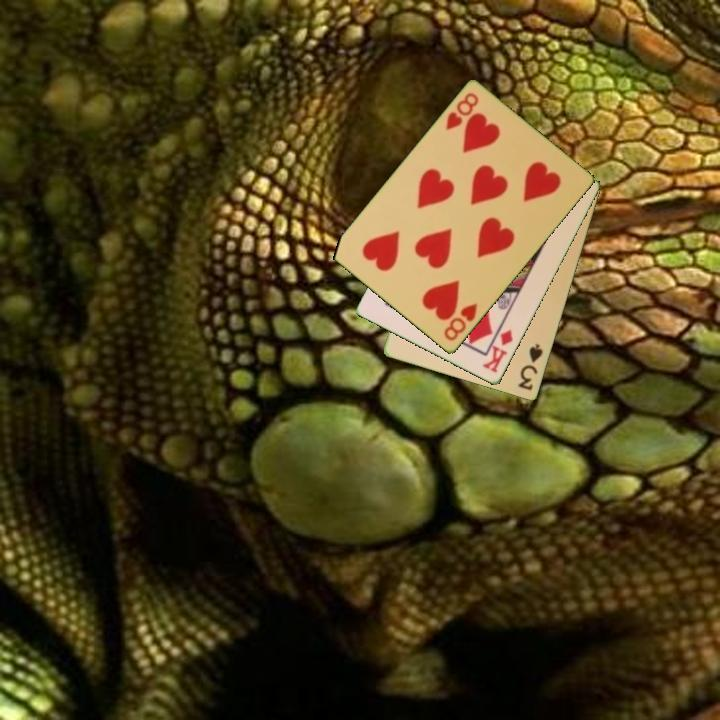3s: (515, 341, 546, 394)
8h: (442, 89, 482, 134), (440, 300, 480, 344)
Kd: (479, 326, 516, 376)
